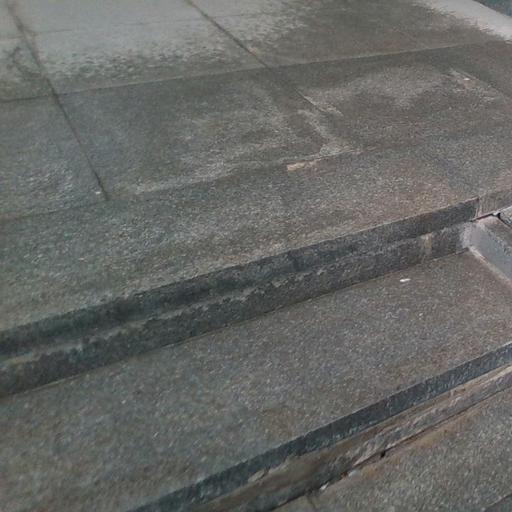stairs: (0, 216, 511, 511)
